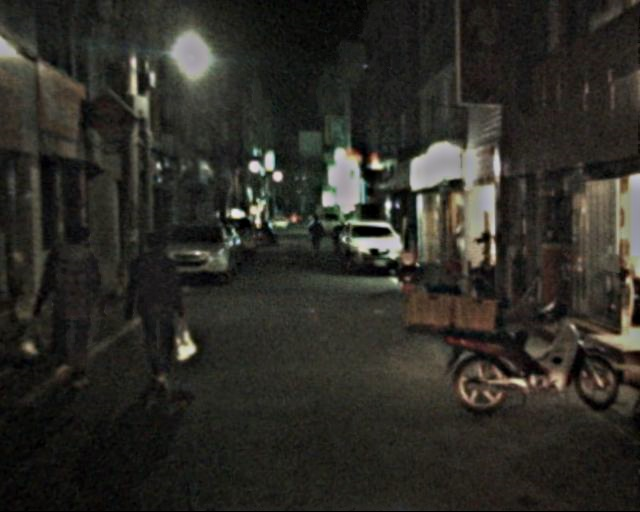person: (39, 219, 111, 387), (125, 230, 191, 394), (308, 216, 326, 256)
